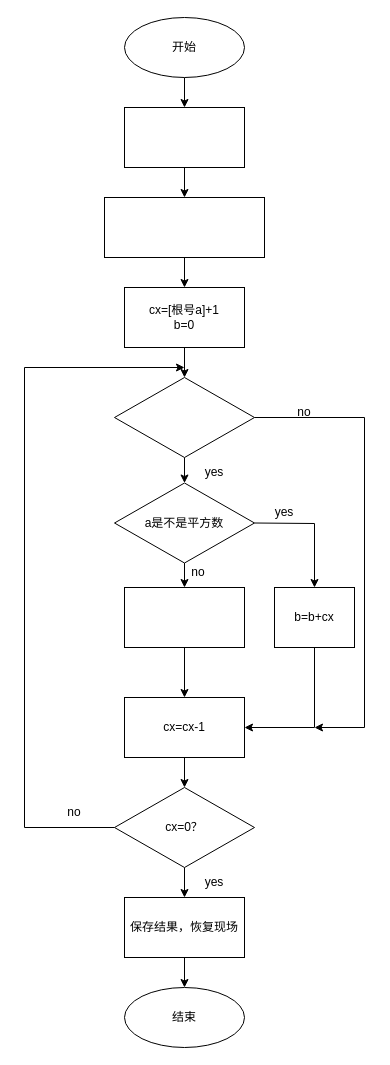
The diagram is 390 pixels wide and 1065 high, and some of its shapes have lost their labels. The shapes that lost their labels are listed below. From the top down, each one's centre as x and y in pixels, then its label:
(x=184, y=137): 完成与主程序的接口工作，保护现场，接收主程序的传入参数a
(x=184, y=227): 确定约数查找范围为根号a
(x=184, y=417): a/cx==0？
(x=184, y=617): b=b+cx+商
